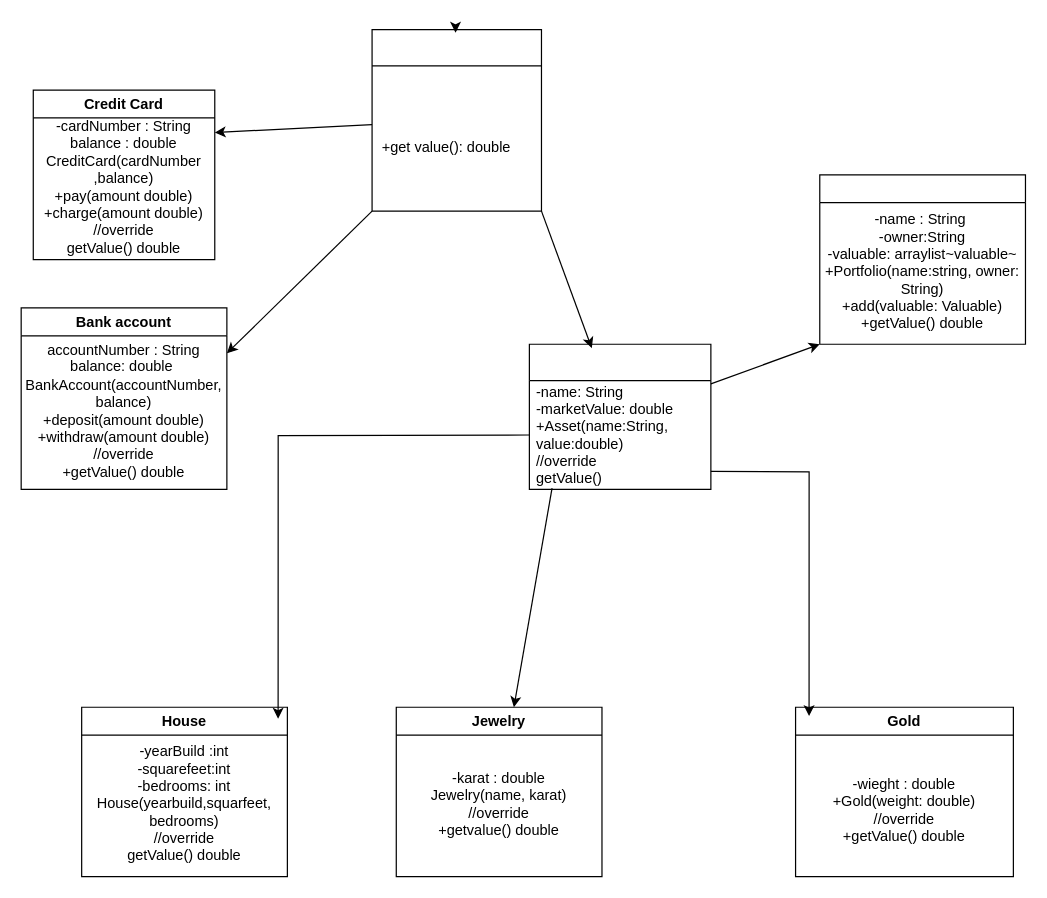
Some shapes in this 1047 by 898 pixel diagram are drawn without their labels. Here are the shapes that lost their labels. From the top down, the box of each, then its label:
(371, 28, 541, 211): <interface> Valuable
(819, 174, 1025, 344): Profolio
(528, 343, 711, 489): <abstract> fixedAsset
